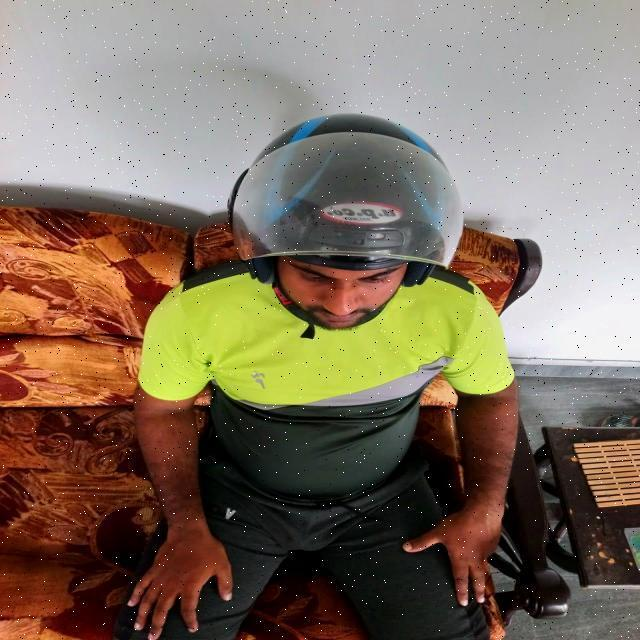helmet: (226, 112, 464, 339)
